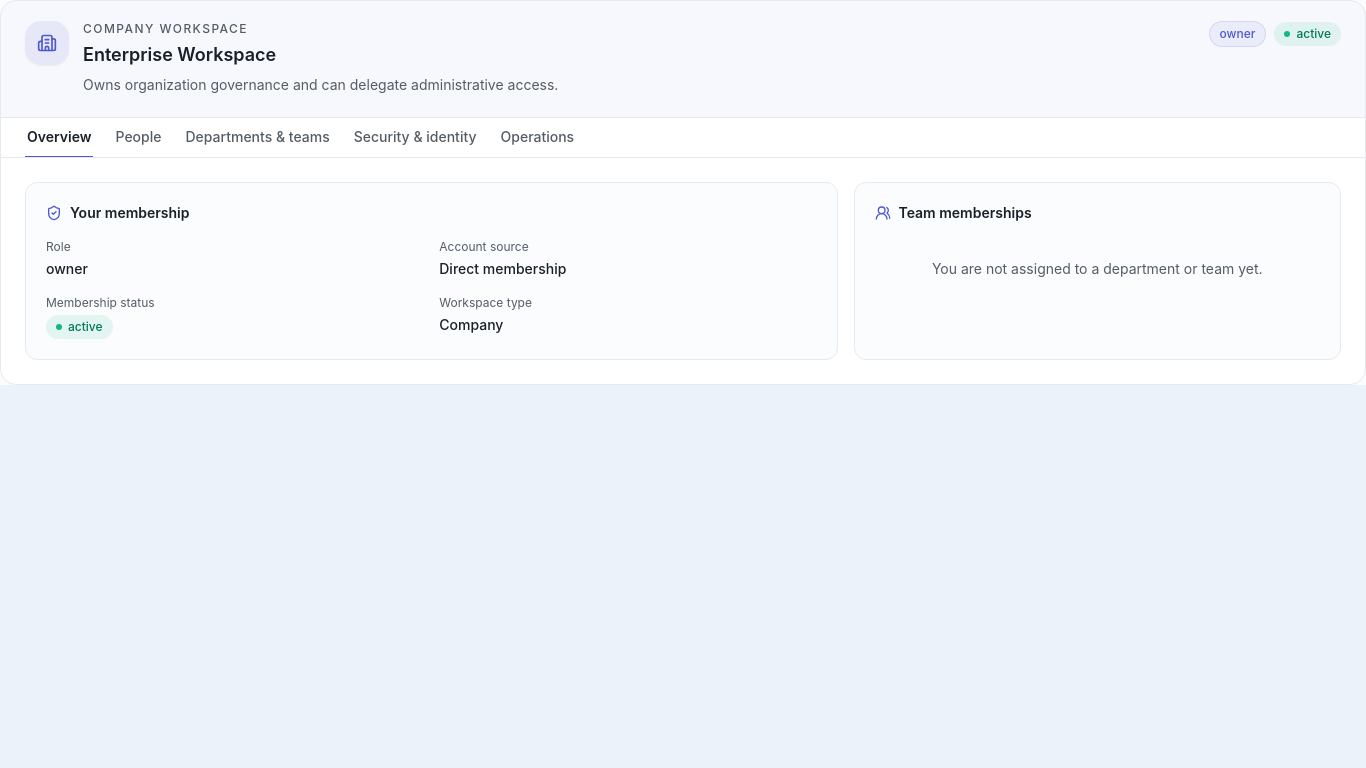
Test case: enterprise organization identity controls › shows the unified OIDC/SCIM control and keeps directory rows read-only
The width and height of the screenshot is (1366, 768).
What coordinates should you click on to do the following:
click the tab "People"
I would click on:
 (138, 138)
Its box is x1=114 y1=118 x2=164 y2=158.
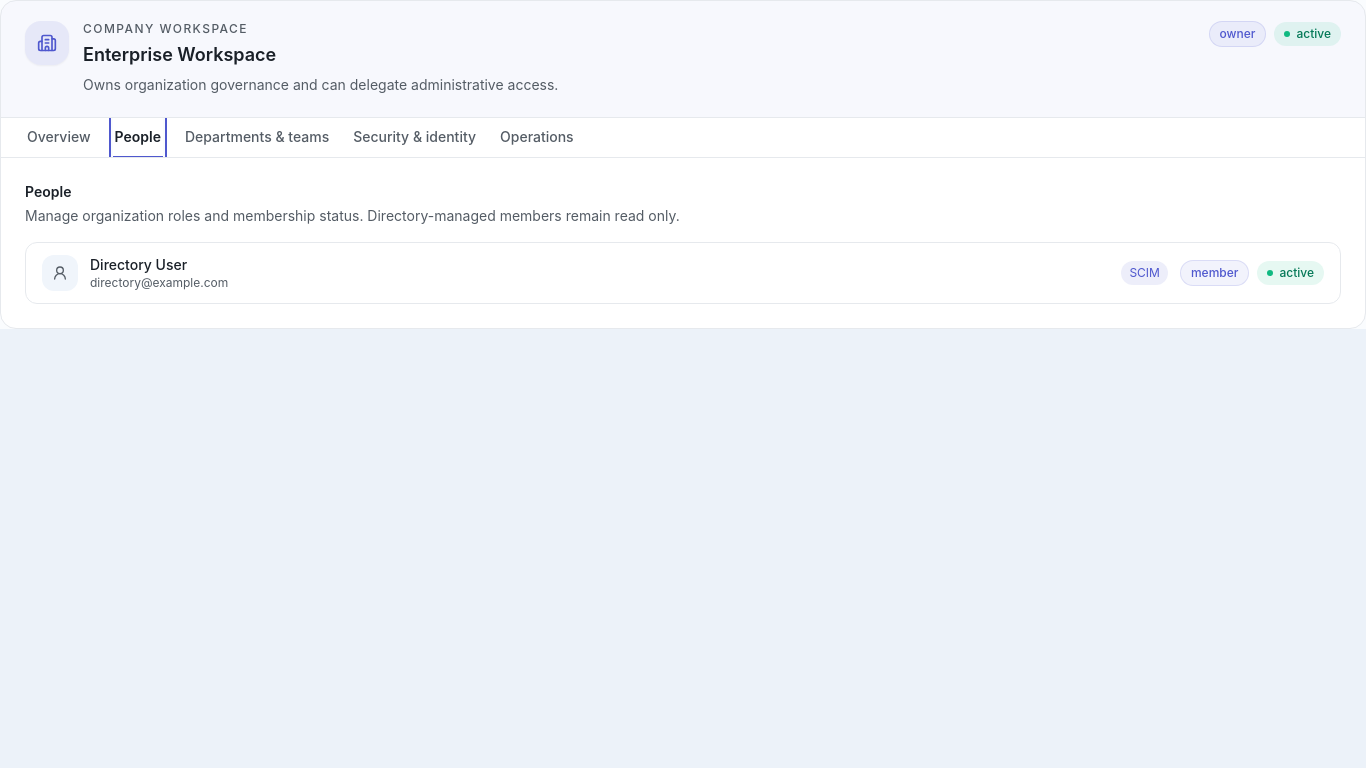
Expected: the text "SCIM" is shown, x1=1121 y1=261 x2=1168 y2=285
What coordinates should you click on to do the following:
click the tab "Departments & teams"
I would click on:
 (257, 138)
Its box is x1=183 y1=118 x2=331 y2=158.
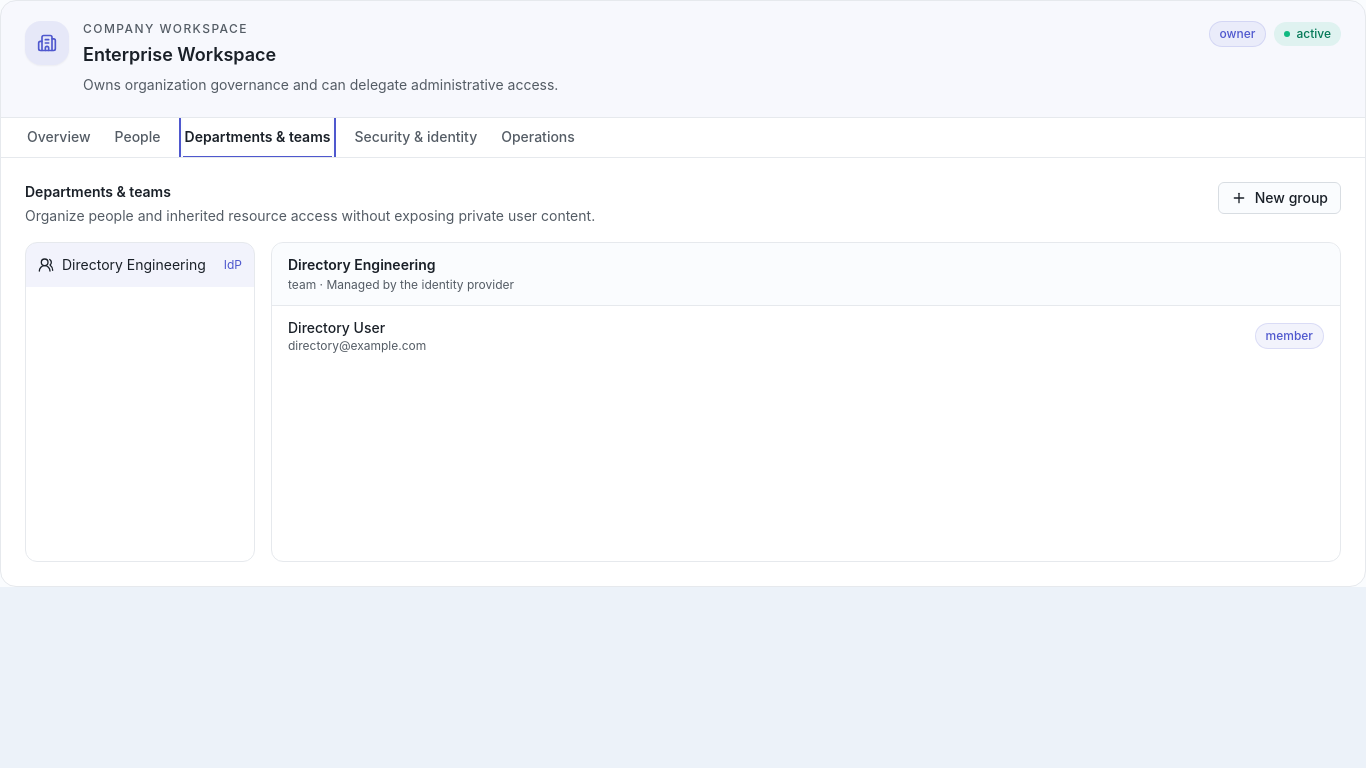
Expected: the text "IdP" is shown, x1=224 y1=257 x2=242 y2=273
Expected: the text "team · Managed by the identity provider" is shown, x1=288 y1=277 x2=514 y2=293
What coordinates should you click on to do the following:
click the tab "Security & identity"
I would click on:
 (416, 138)
Its box is x1=352 y1=118 x2=479 y2=158.
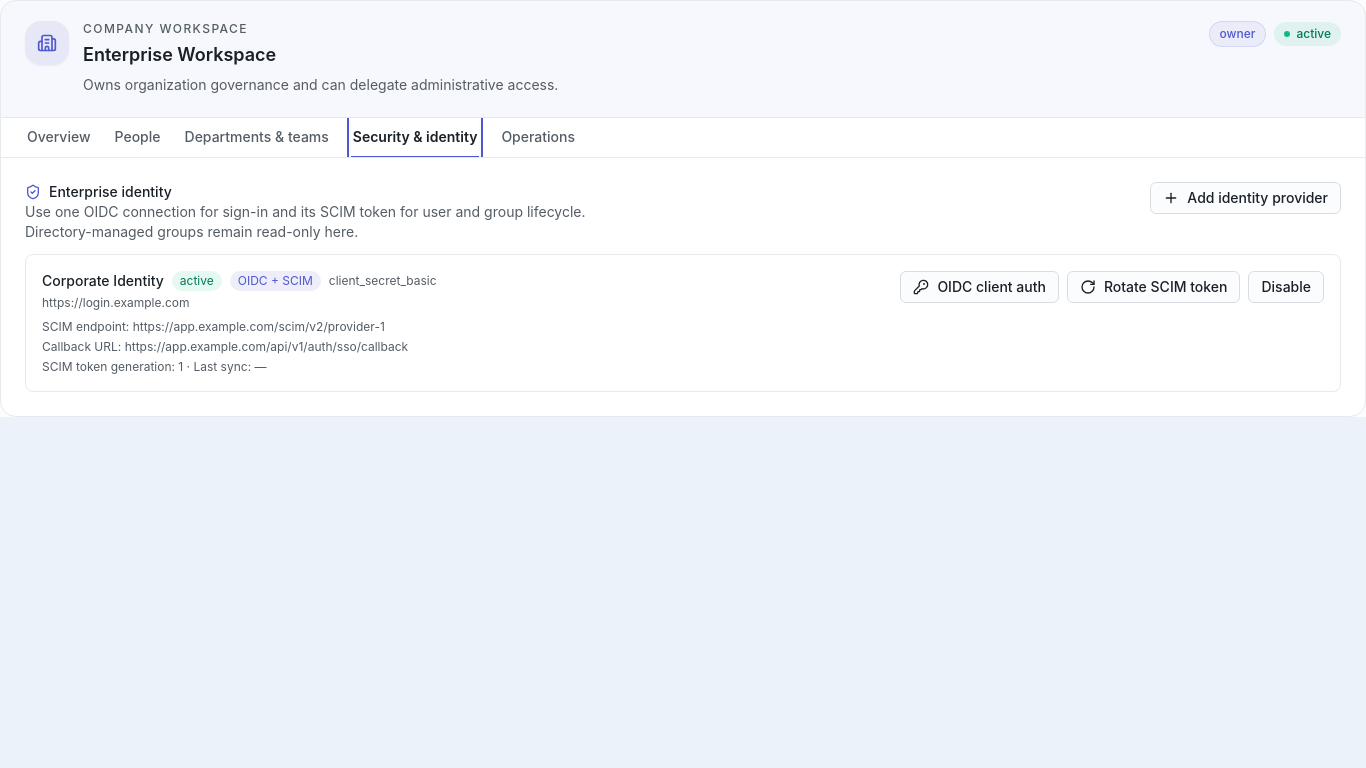
Expected: the element with test id "enterprise-identity-section" is shown, x1=25 y1=182 x2=1341 y2=392
Expected: the text "Corporate Identity" is shown, x1=42 y1=271 x2=164 y2=291
Expected: the text "OIDC + SCIM" is shown, x1=230 y1=271 x2=321 y2=291
